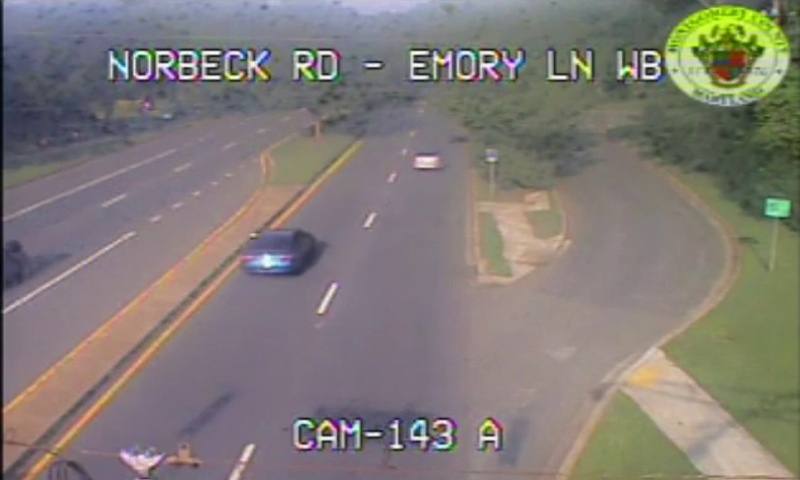car: (238, 230, 311, 274), (412, 151, 444, 170)
